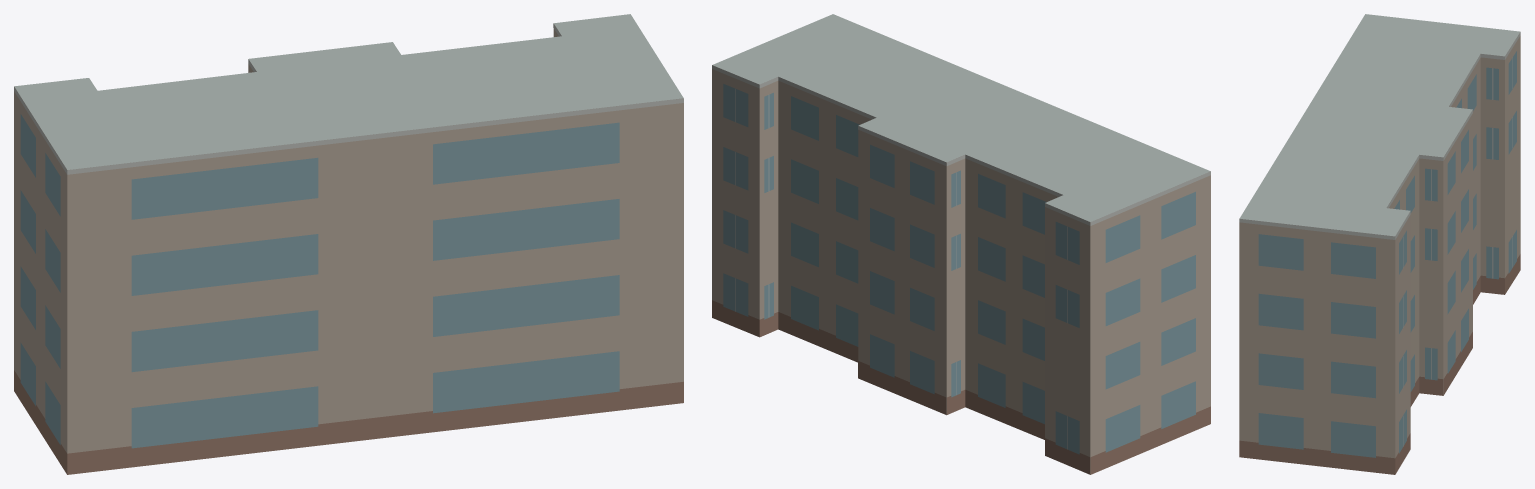
The model's file is survey-upis-32806373.glb.
3 renders of one model, left to right at view 1: azimuth 30°, elevation 25°; view 2: azimuth 150°, elevation 25°; view 3: azimuth 270°, elevation 25°, orthographic. The views are drawn at different scales.
Parts seen in each view (by area): view 1: survey-upis-32806373.tmp; view 2: survey-upis-32806373.tmp; view 3: survey-upis-32806373.tmp.
Part boxes in pixels (x1=…): survey-upis-32806373.tmp: x1=14, y1=14, x2=683, y2=474; survey-upis-32806373.tmp: x1=712, y1=14, x2=1210, y2=474; survey-upis-32806373.tmp: x1=1239, y1=14, x2=1520, y2=474.
Bounding box in the file's own units: 31.71 × 15.85 × 16.95.
